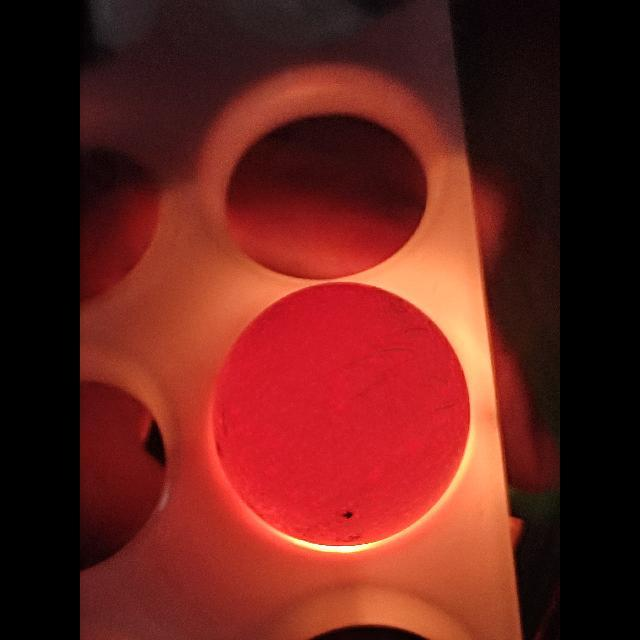Infertile: (210, 277, 468, 535)
